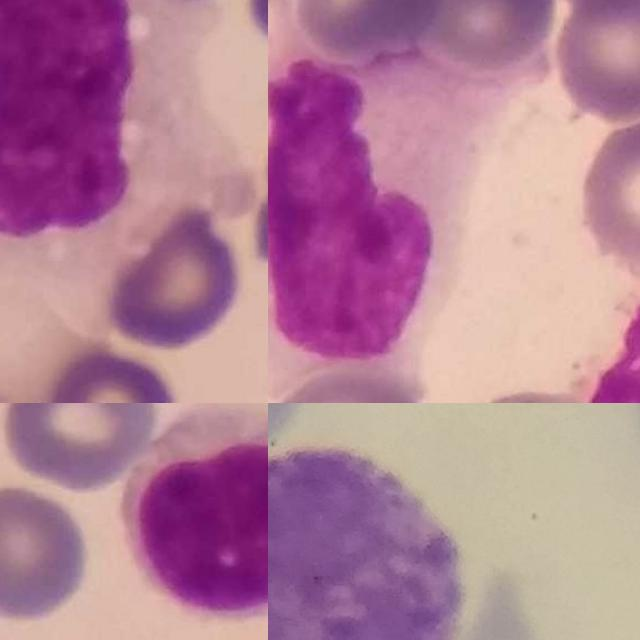Basophil: (268, 446, 463, 640)
Lymphocyte: (123, 403, 268, 615)
Monocyte: (268, 41, 501, 390), (0, 0, 158, 255)
